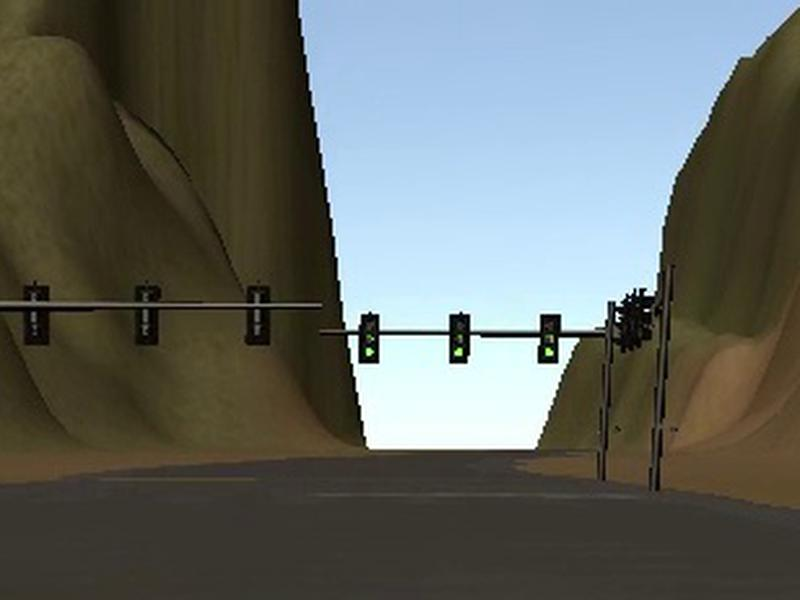Green: (536, 313, 561, 363), (358, 314, 379, 364), (449, 314, 470, 364)
